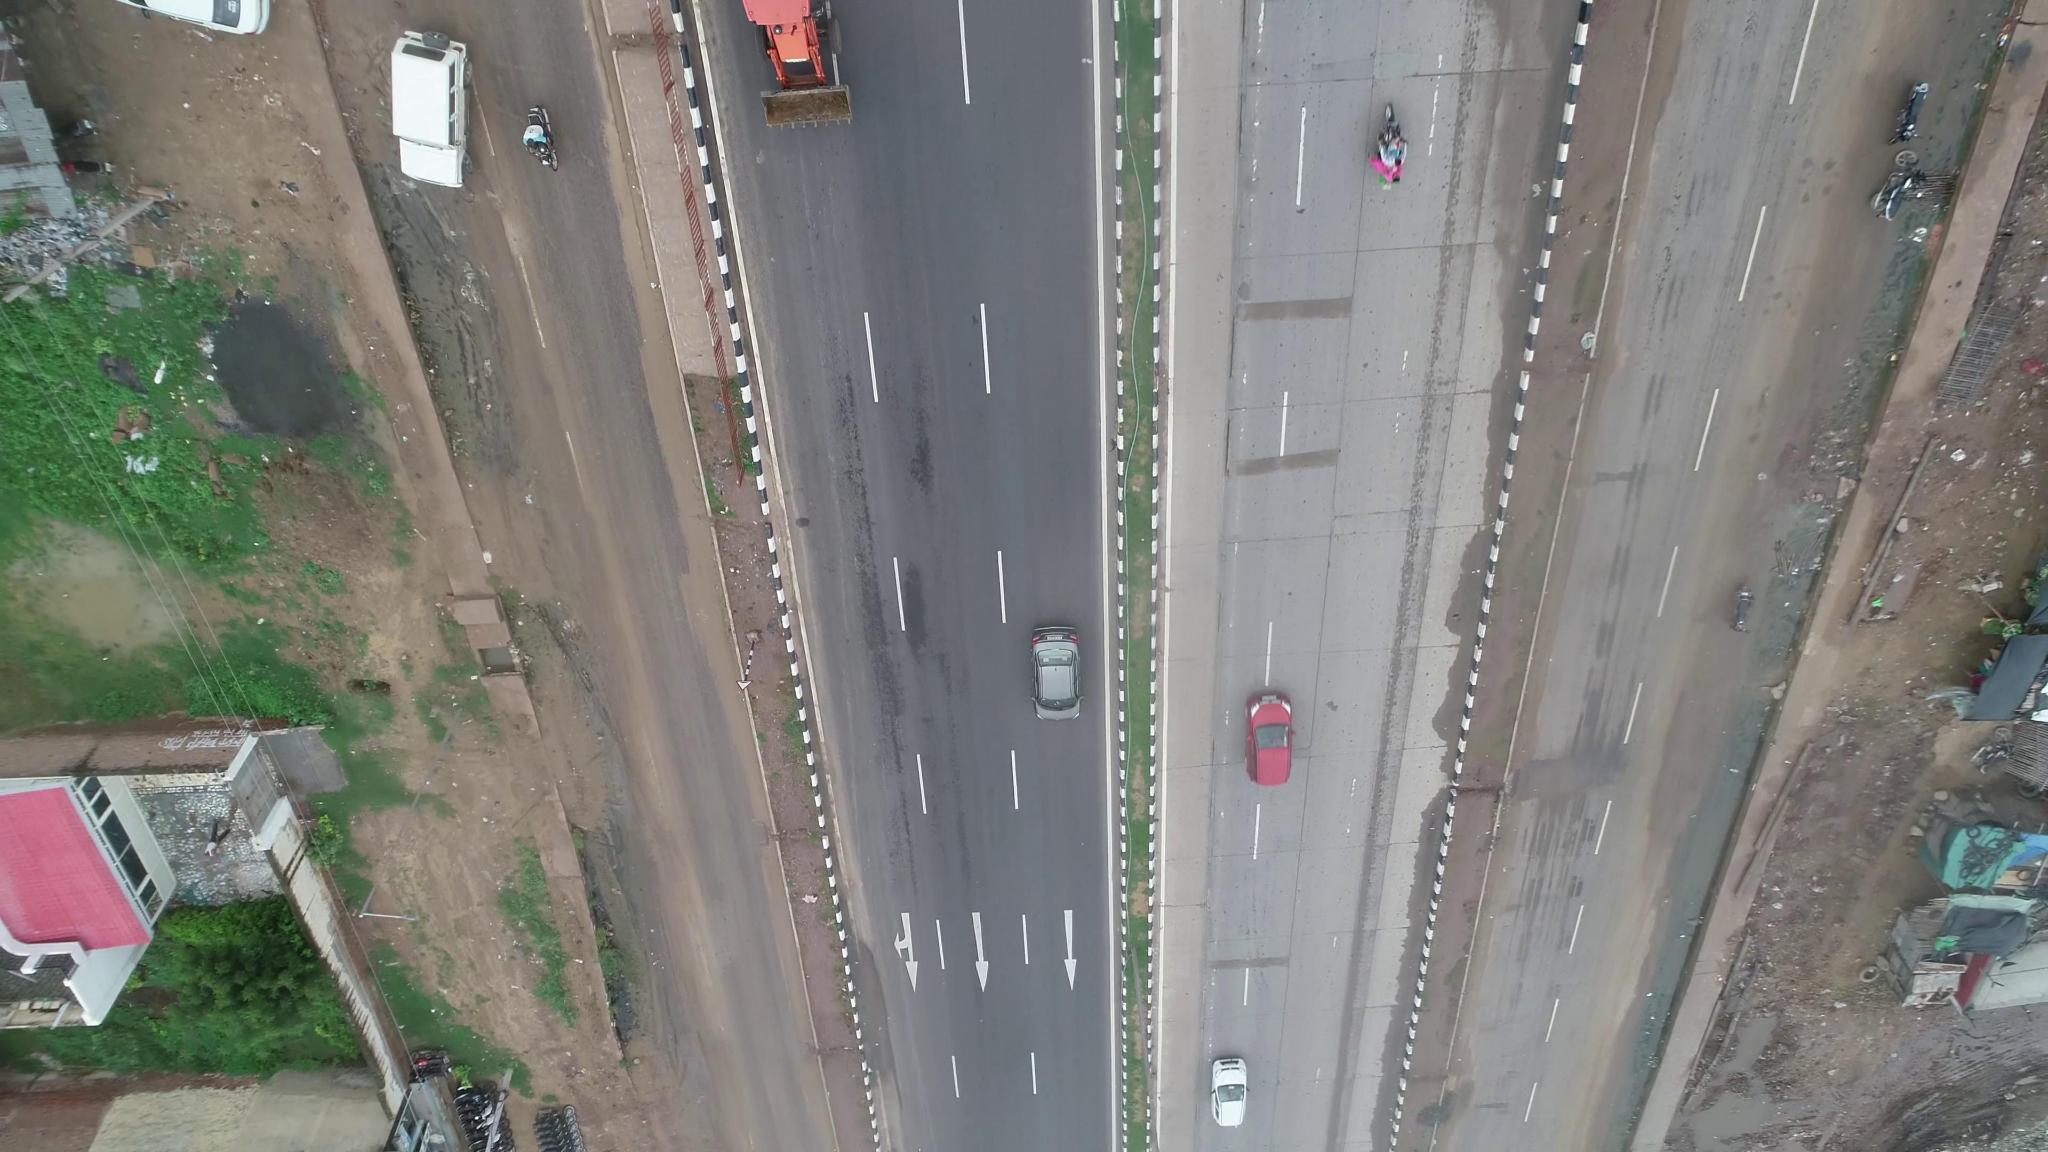Ravelling: (826, 390, 899, 753)
